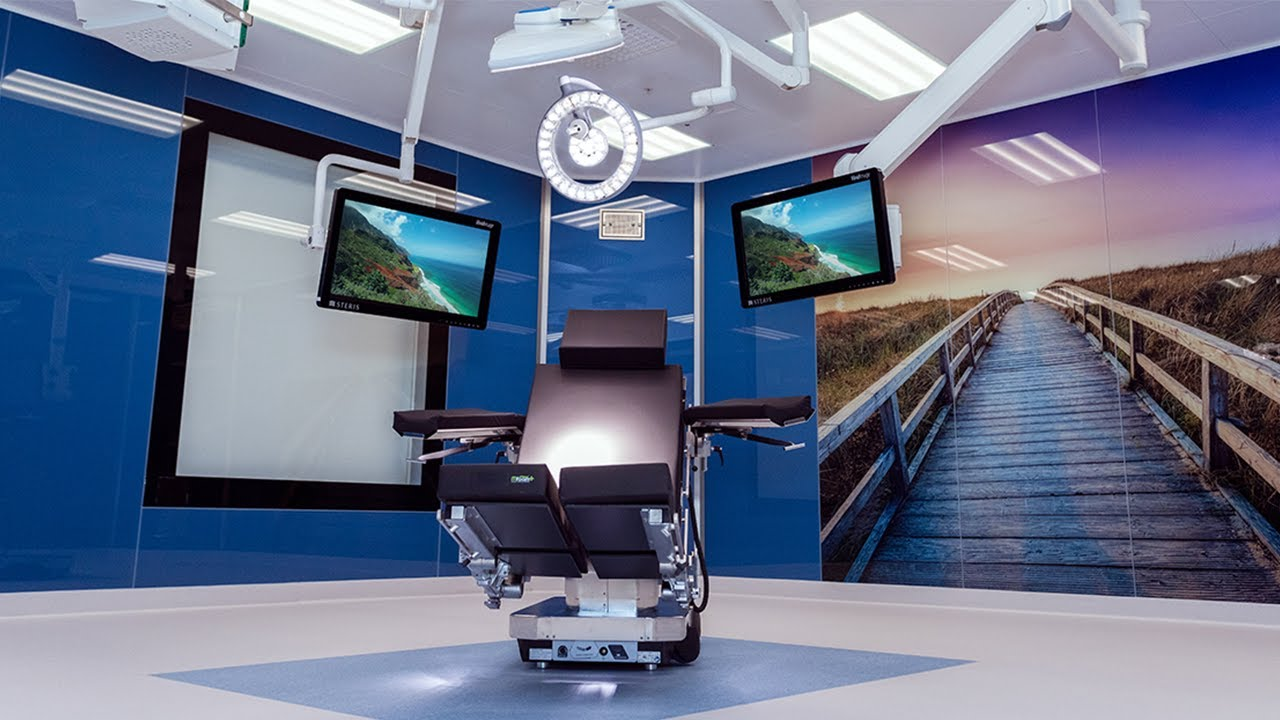TV: (318, 185, 504, 334), (734, 167, 902, 311)
exam_table: (392, 308, 815, 671)
surgical_light: (533, 77, 643, 207), (483, 1, 628, 72)
